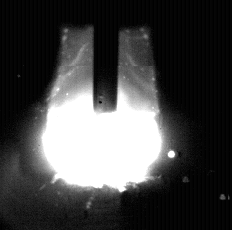arame: (93, 0, 119, 113)
poca: (41, 0, 161, 230)
